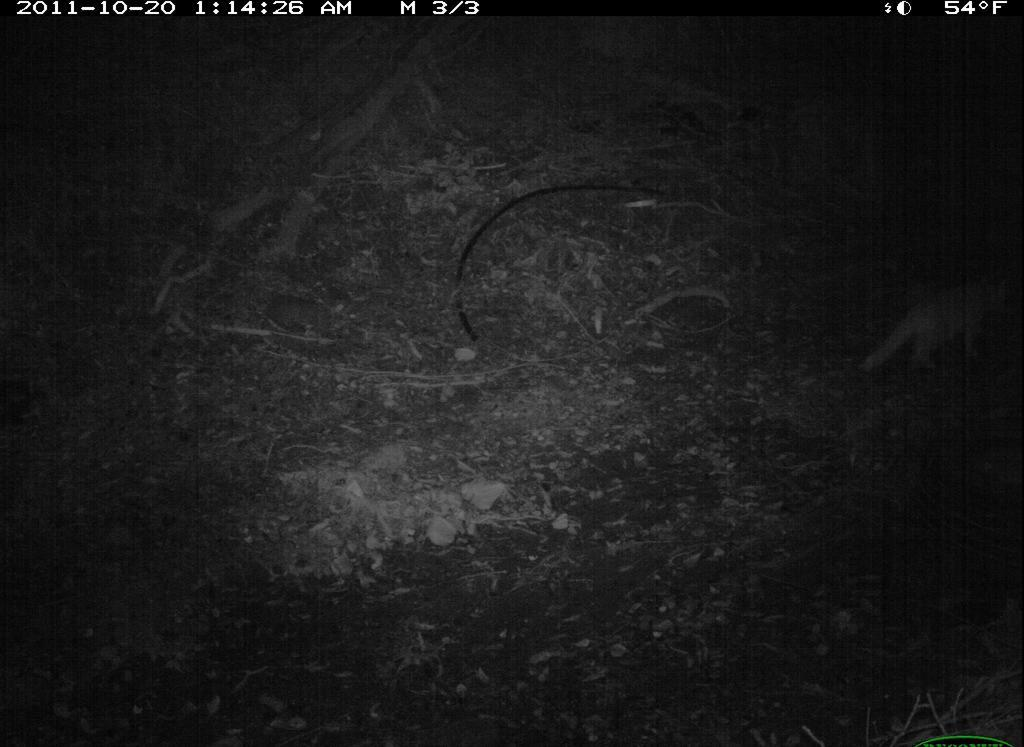cat: (866, 248, 1024, 416)
